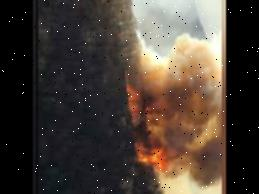fire: (121, 62, 176, 170)
